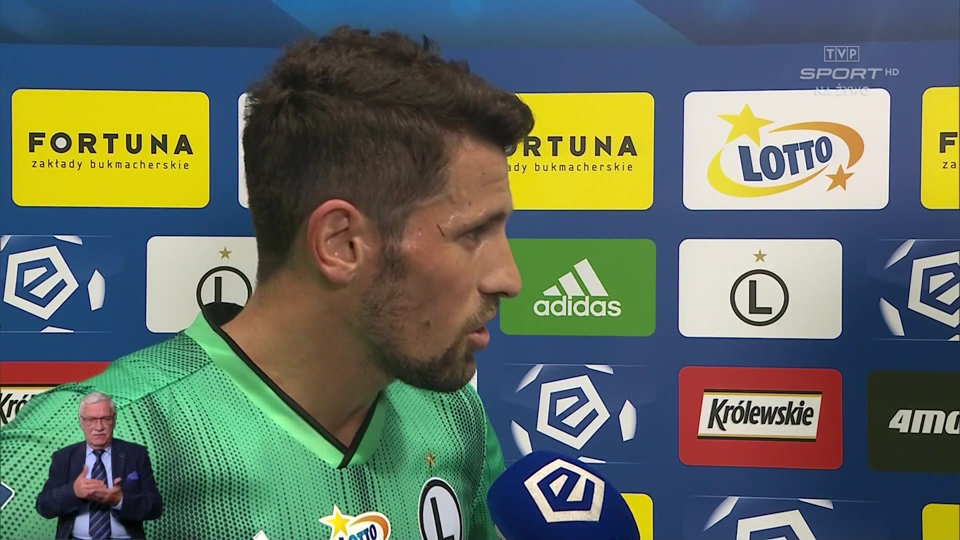Adidas: (534, 256, 622, 319)
